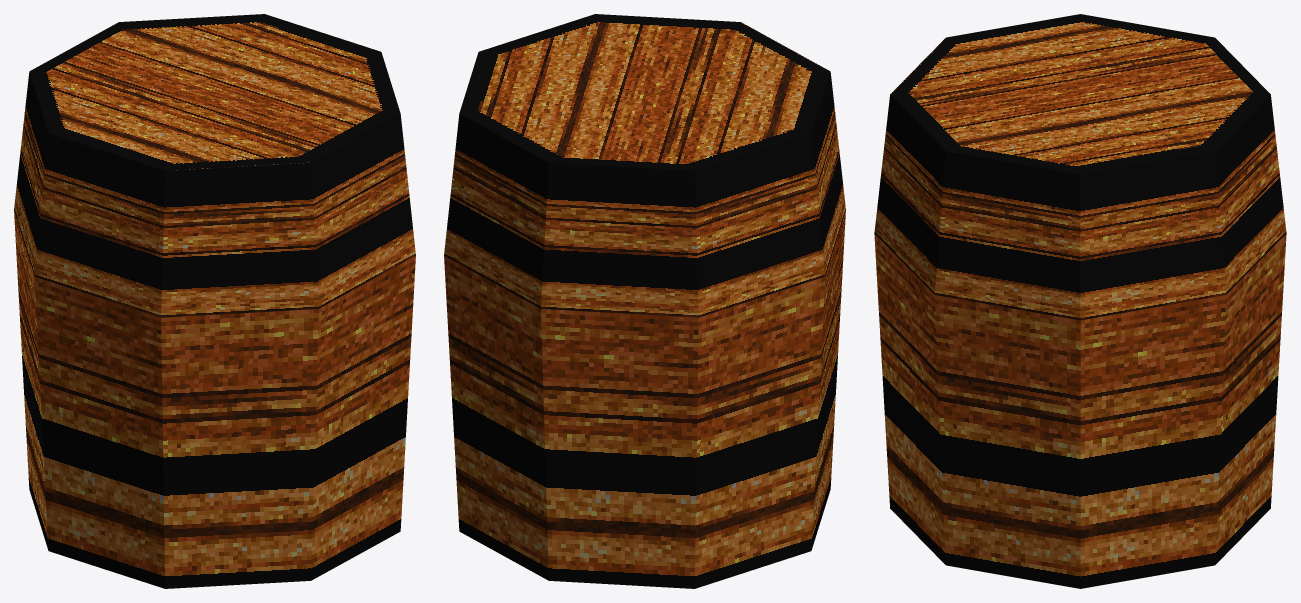
File: barrel.glb
3 renders of one model, left to right at view 1: azimuth 30°, elevation 25°; view 2: azimuth 150°, elevation 25°; view 3: azimuth 270°, elevation 25°, orthographic.
Visible parts, largest first — view 1: Cylinder; view 2: Cylinder; view 3: Cylinder.
Part boxes in pixels (bbox=[...]): Cylinder: bbox=[14, 14, 415, 588]; Cylinder: bbox=[444, 14, 845, 588]; Cylinder: bbox=[874, 14, 1286, 588].
Bounding box in the file's own units: 0.6 × 0.6651 × 0.6.
Materials: 1 (1 with a texture image).
